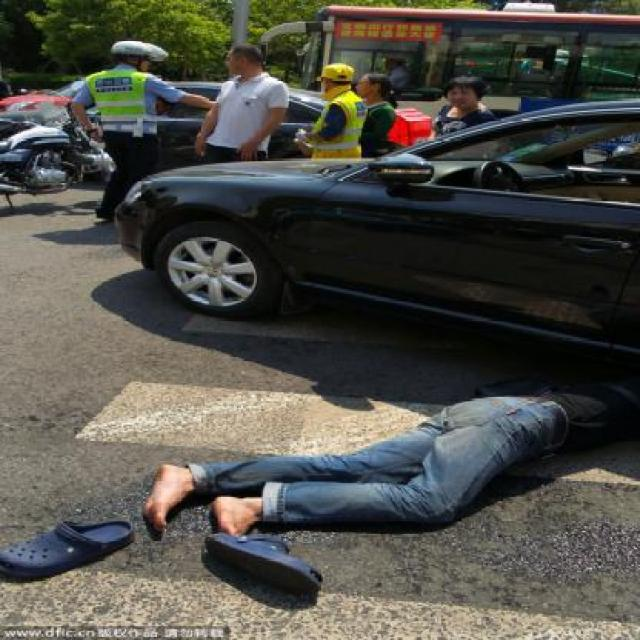fall: (141, 333, 630, 573)
